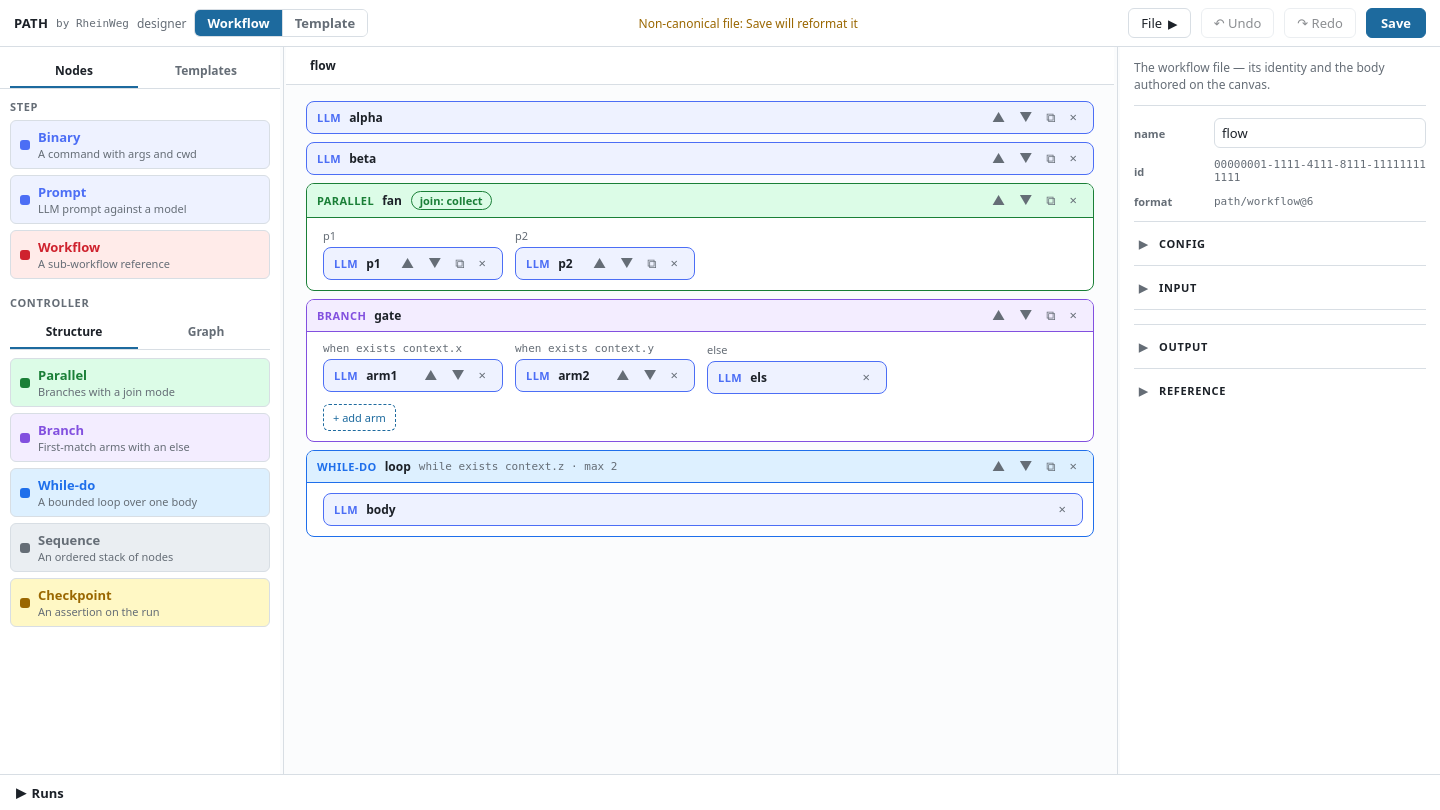
Scenario: delete — the slot rules hold › removes an else, then offers add-else again (at most one else)
Expected: the text "alpha" is shown, [349,109,383,126]
Click the button named "Delete els". click: (866, 378)
box: [857,369,876,386]
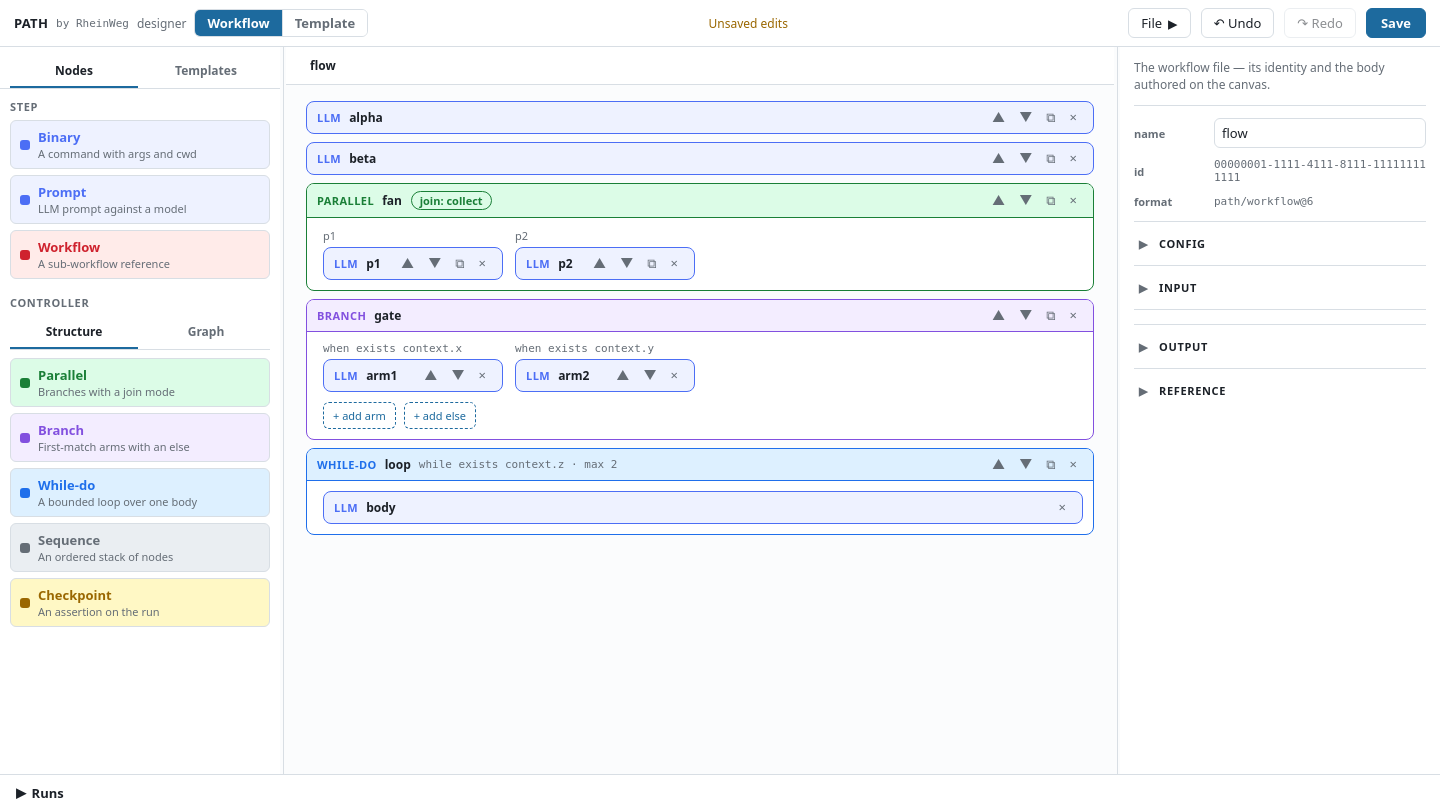
Now the button "+ add else" is shown, box [404,402,476,429]
